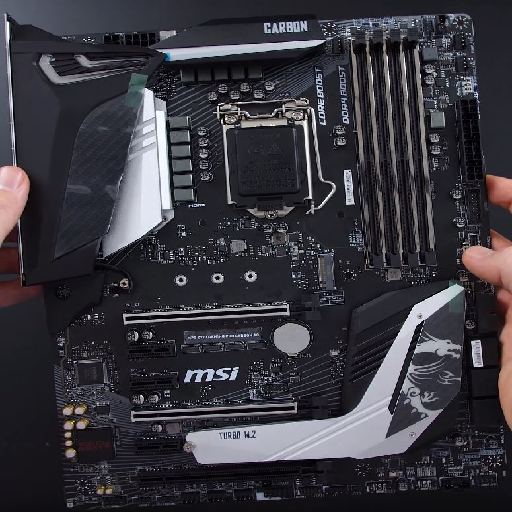CPU: (217, 96, 325, 216)
GPU: (121, 296, 321, 328), (130, 395, 328, 425)
MOTHERBOARD: (7, 16, 511, 507)
RAM: (349, 27, 449, 275)
SSD: (311, 249, 337, 295)
